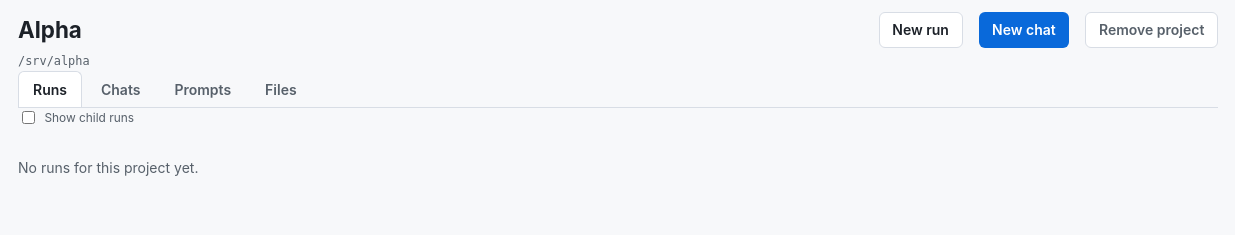
Scenario: ProjectView › Prompts pane lists prompts and shows the body when selected
The width and height of the screenshot is (1235, 235).
What coordinates should you click on to do the following:
click the tab with test id "tab-prompts"
I would click on:
 (203, 89)
Its box is [159,71,246,107].
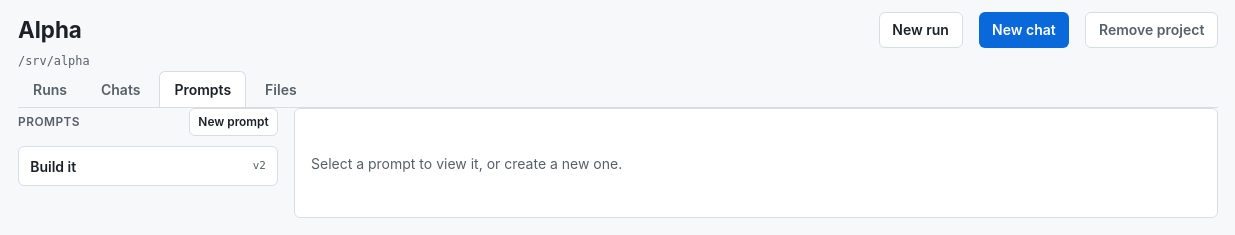
expect the text "Build it" is shown: met, box [30,158,76,175]
expect the text "v2" is shown: met, box [253,158,266,174]
What coordinates should you click on to do the following:
click the button with test id "prompt-row-1"
I would click on:
 (53, 166)
Its box is [18,146,278,186].
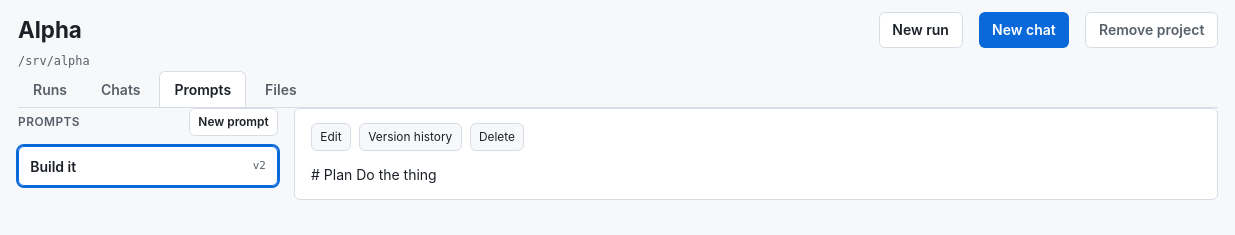
expect the text with class "md-stub" shows "Do the thing": met, box [311,166,437,183]
expect the button with test id "prompt-edit" is shown: met, box [311,123,351,151]
expect the button with test id "prompt-history" is shown: met, box [359,123,462,151]
